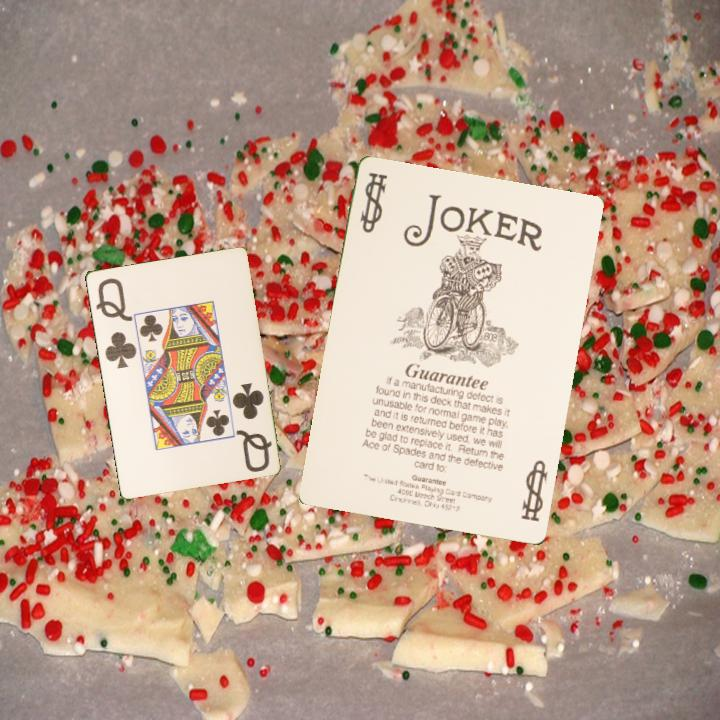JK: (356, 169, 391, 237), (518, 457, 552, 525)
Qc: (92, 274, 139, 371), (228, 379, 275, 475)
